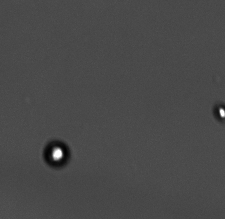Living Cell: (42, 139, 70, 169)
